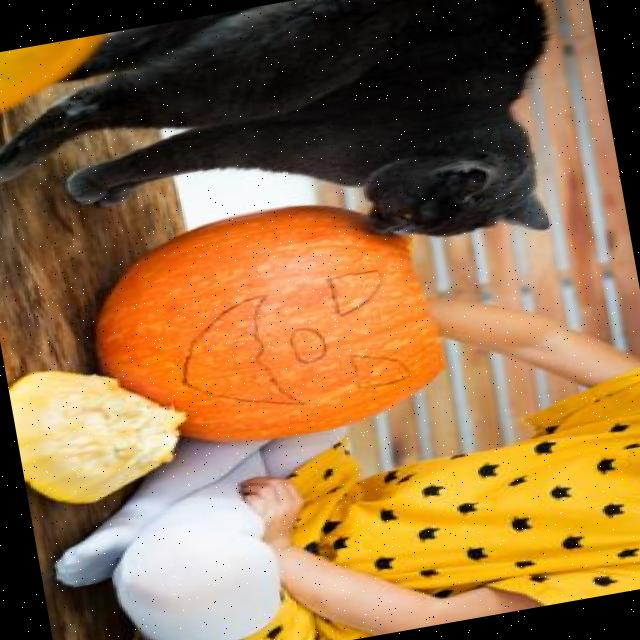pumpkin: (94, 206, 442, 440)
